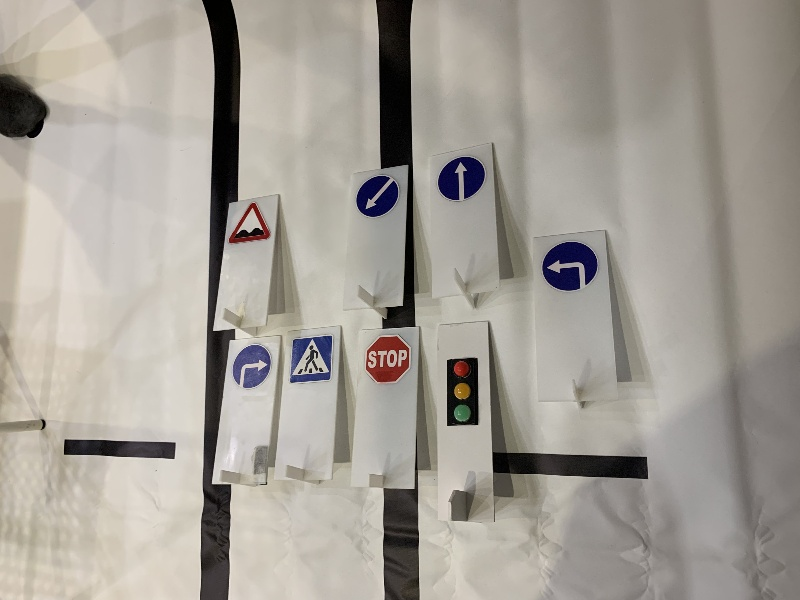Left: (540, 239, 599, 293)
Nerov: (227, 201, 272, 243)
Right: (232, 344, 270, 392)
Stop: (365, 334, 408, 384)
forw: (433, 155, 489, 201)
pesh: (288, 334, 333, 387)
prep: (355, 175, 399, 217)
